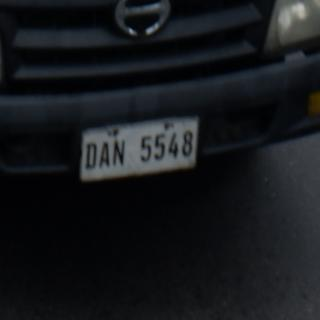license: (80, 118, 200, 183)
